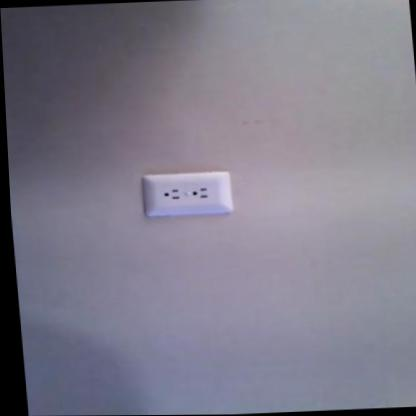OUTLET: (140, 168, 235, 217)
